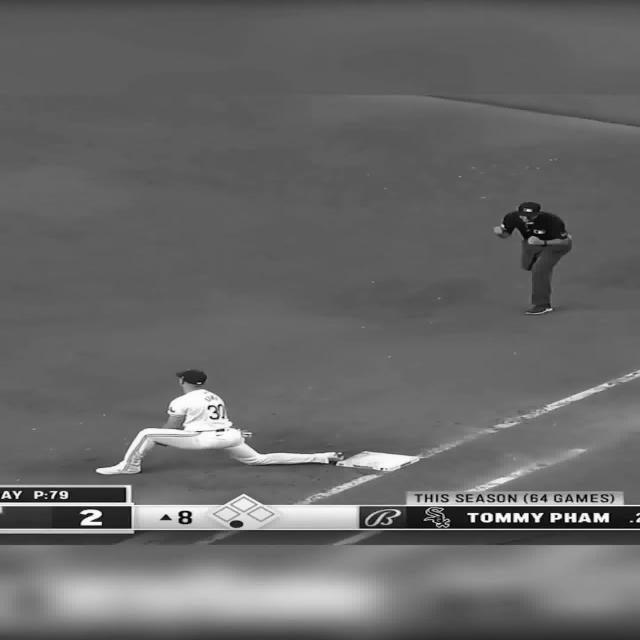base: (336, 451, 420, 471)
shoe: (96, 461, 142, 475), (322, 452, 345, 464), (525, 306, 553, 315)
